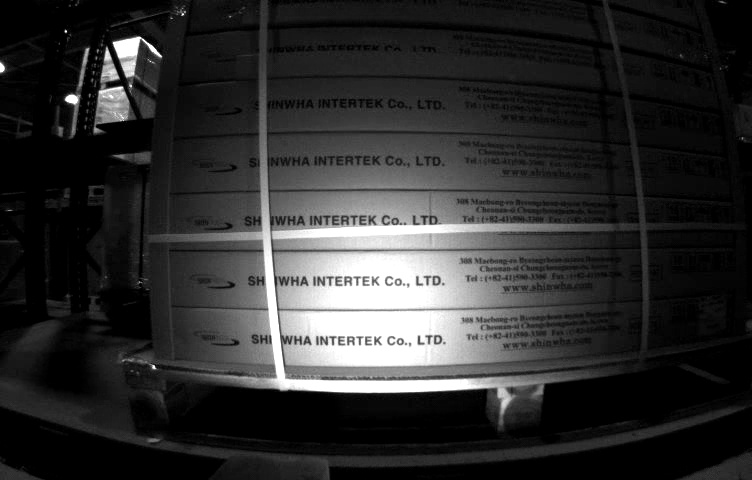True Barcode: (698, 291, 728, 335)
